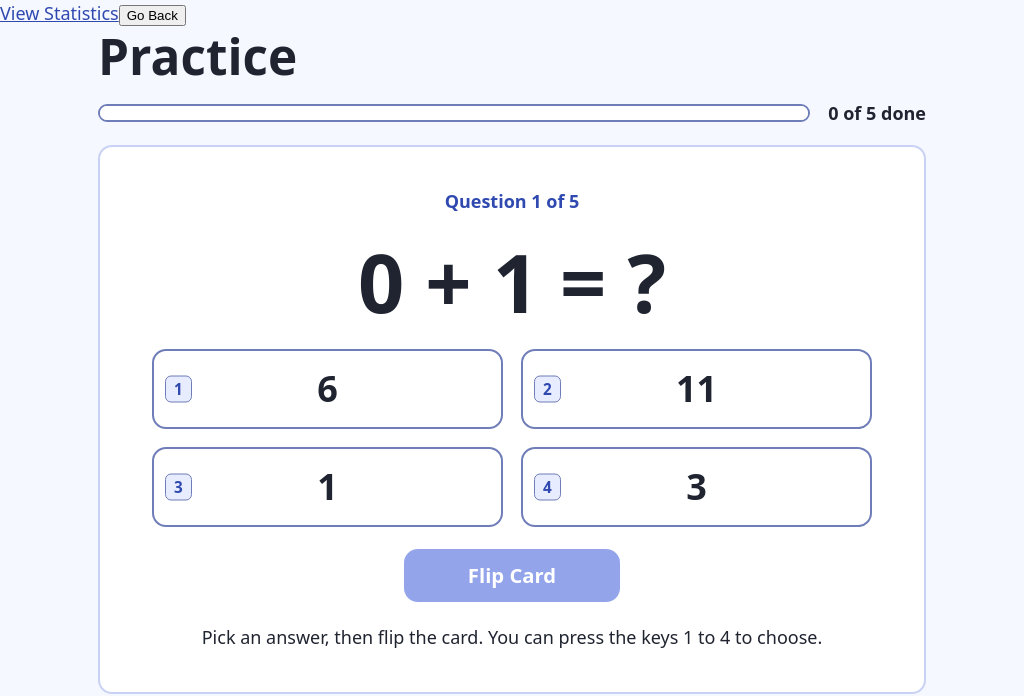
choosing to end the session and leave › goes where the link was heading, not to the summary
This screenshot has width=1024, height=696.
Step 1. Click the button "1 6" → (328, 389), box [152,349,503,429]
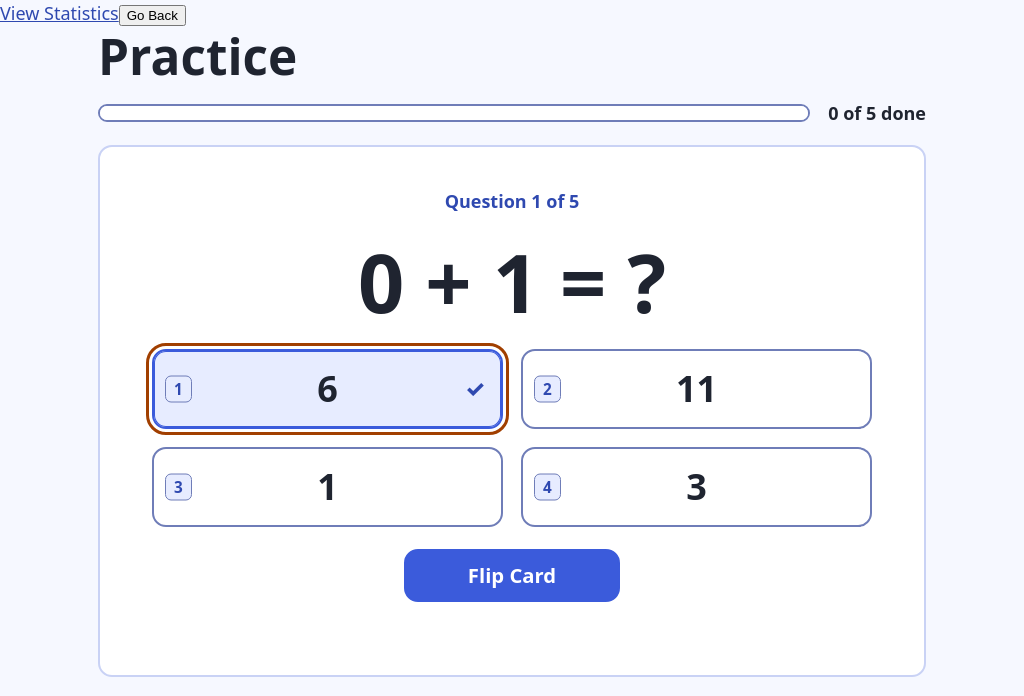
Step 2. Click the button "Flip Card" → (512, 576), box [404,549,620,602]
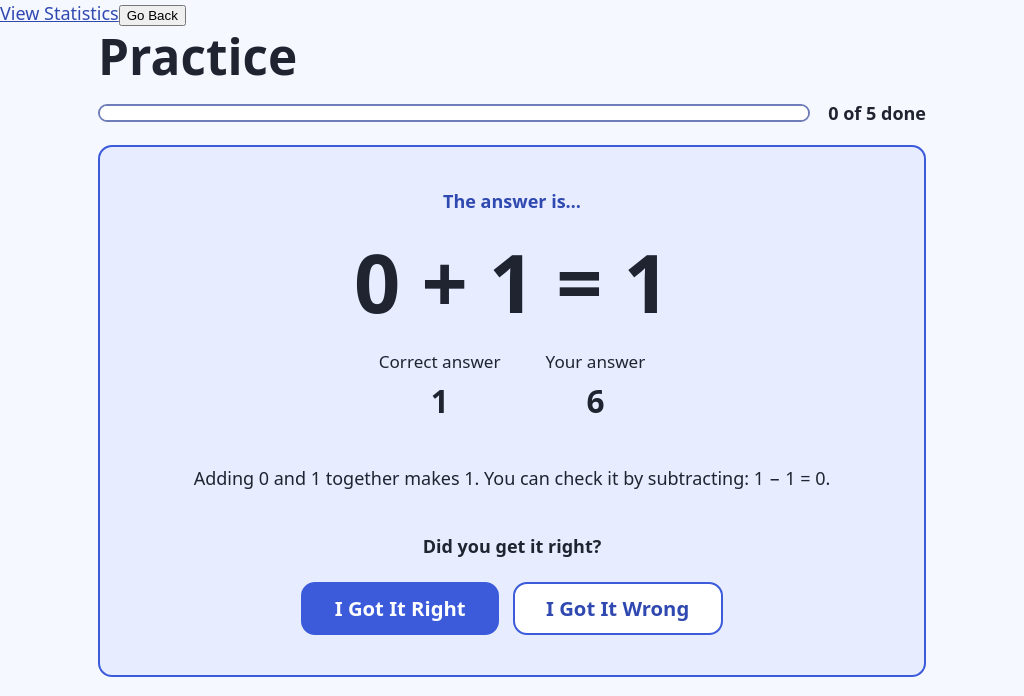
Step 3. Click the button "I Got It Right" → (400, 608), box [301,582,499,634]
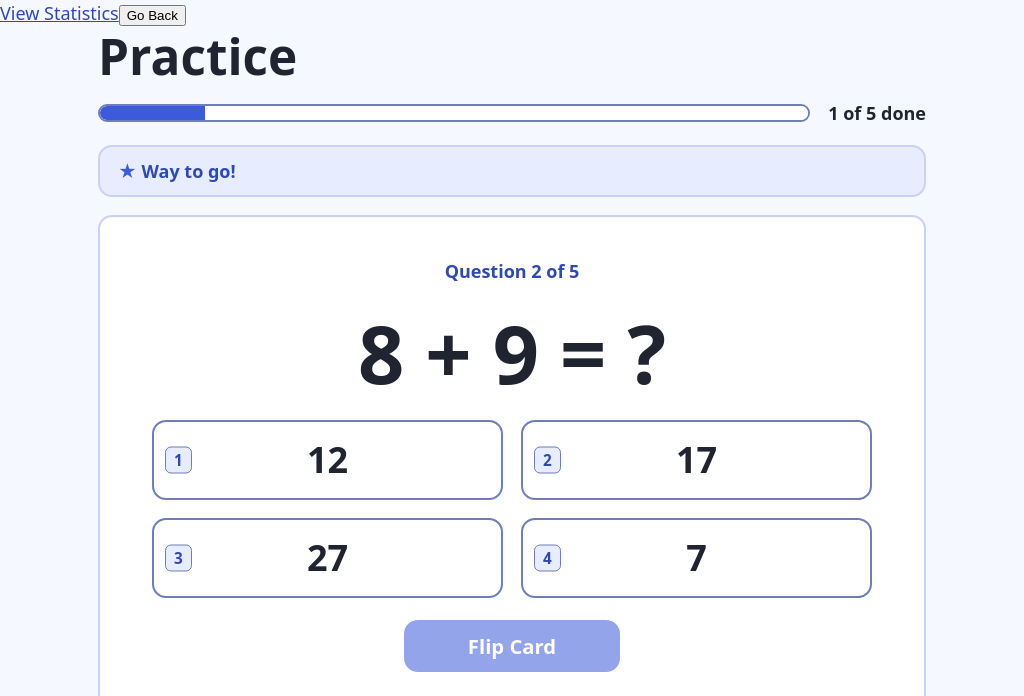
Step 4. Click the link "View Statistics" → (59, 13), box [0,1,119,25]
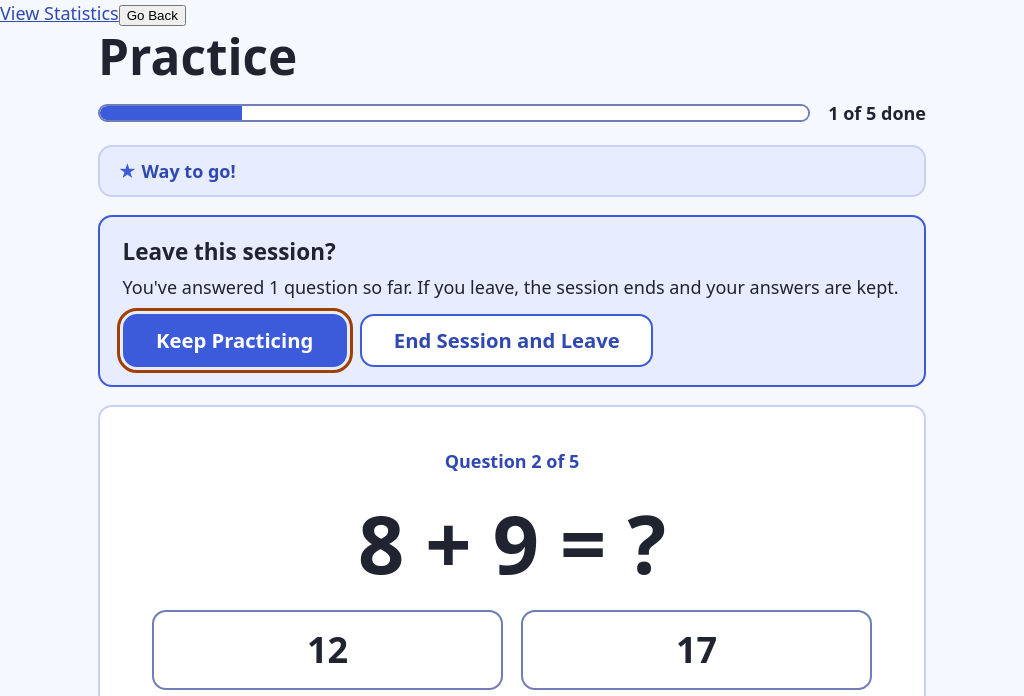
Step 5. Click the button "End Session and Leave" → (507, 340), box [360,314,653,367]
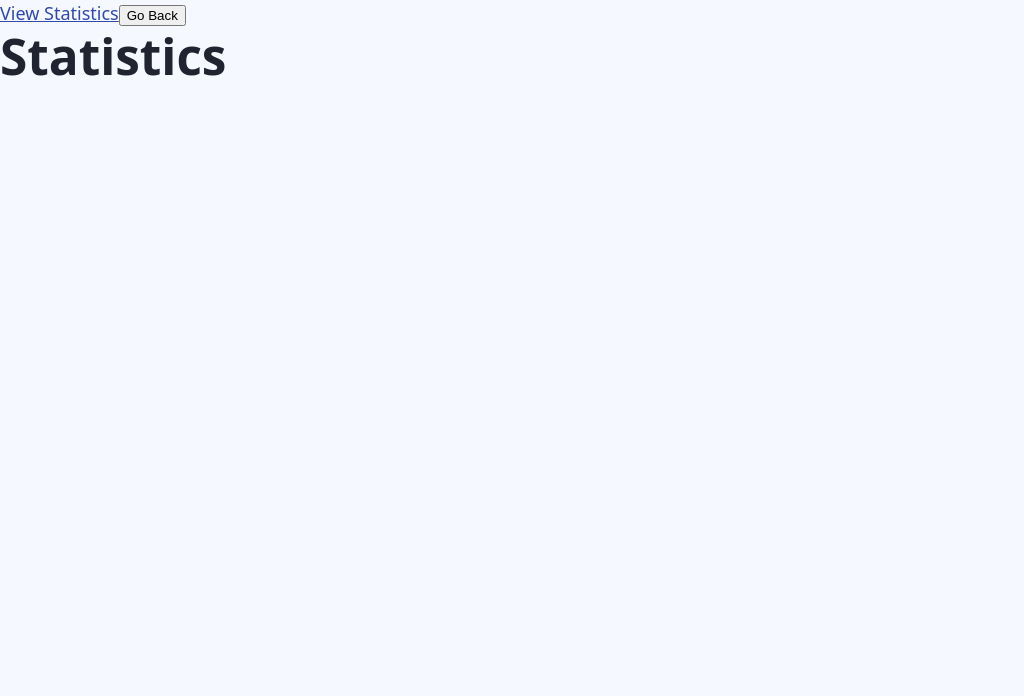
Result: the heading "Statistics" is shown at [0,22,226,90]
Result: the dialog is gone
